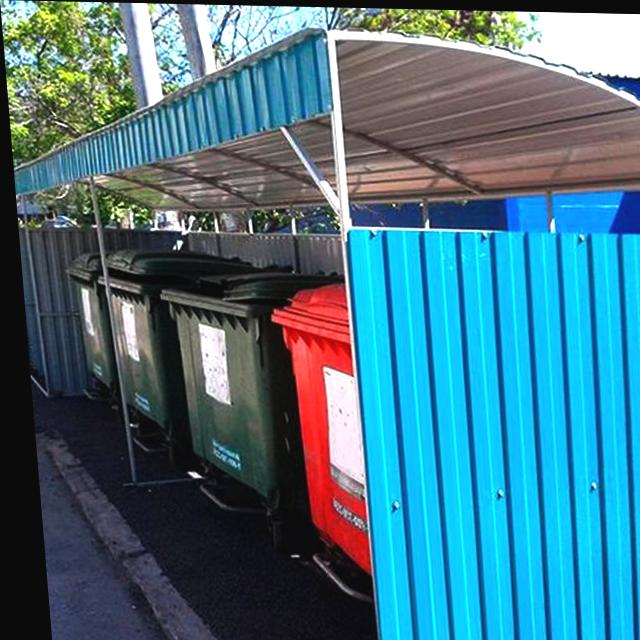Trash_Can_Closed: (154, 268, 340, 510), (101, 247, 287, 440), (266, 281, 361, 575), (62, 252, 110, 390)
